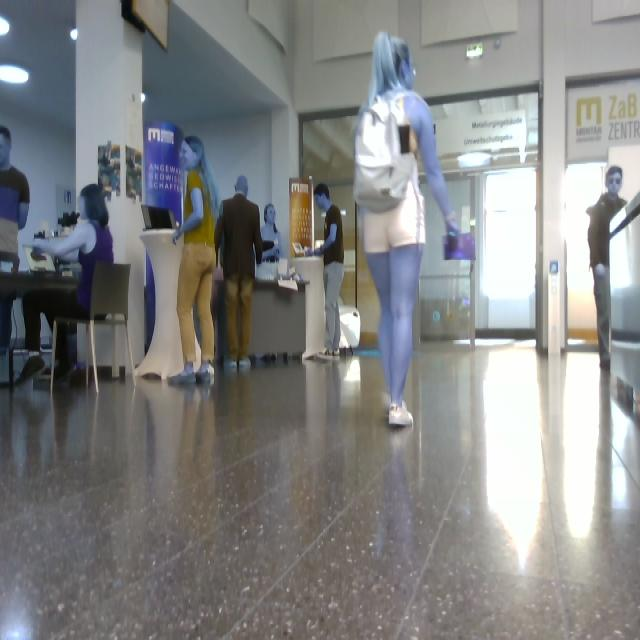backpack: (355, 94, 416, 213)
chair: (73, 264, 136, 390)
desk: (250, 278, 306, 358), (213, 281, 230, 361)
door: (414, 84, 542, 354), (300, 108, 379, 353), (314, 206, 325, 244)
light bulb: (1, 65, 29, 85), (1, 17, 10, 36), (70, 29, 78, 41), (142, 93, 146, 104)
person: (355, 33, 460, 426), (21, 185, 114, 380), (171, 137, 219, 384), (216, 177, 263, 368), (587, 166, 626, 370), (311, 184, 344, 356), (1, 126, 30, 269), (257, 205, 282, 280), (1, 293, 15, 354)
pillar: (77, 1, 146, 364), (96, 325, 127, 377), (79, 325, 91, 365)
staircase: (610, 192, 640, 420)
table: (135, 230, 184, 381), (292, 257, 325, 361), (194, 338, 201, 370)
tiled floor: (1, 344, 640, 640)
